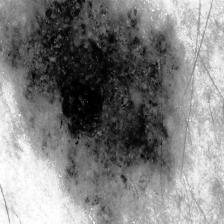Benign Marking or Mole: (4, 0, 191, 224)
